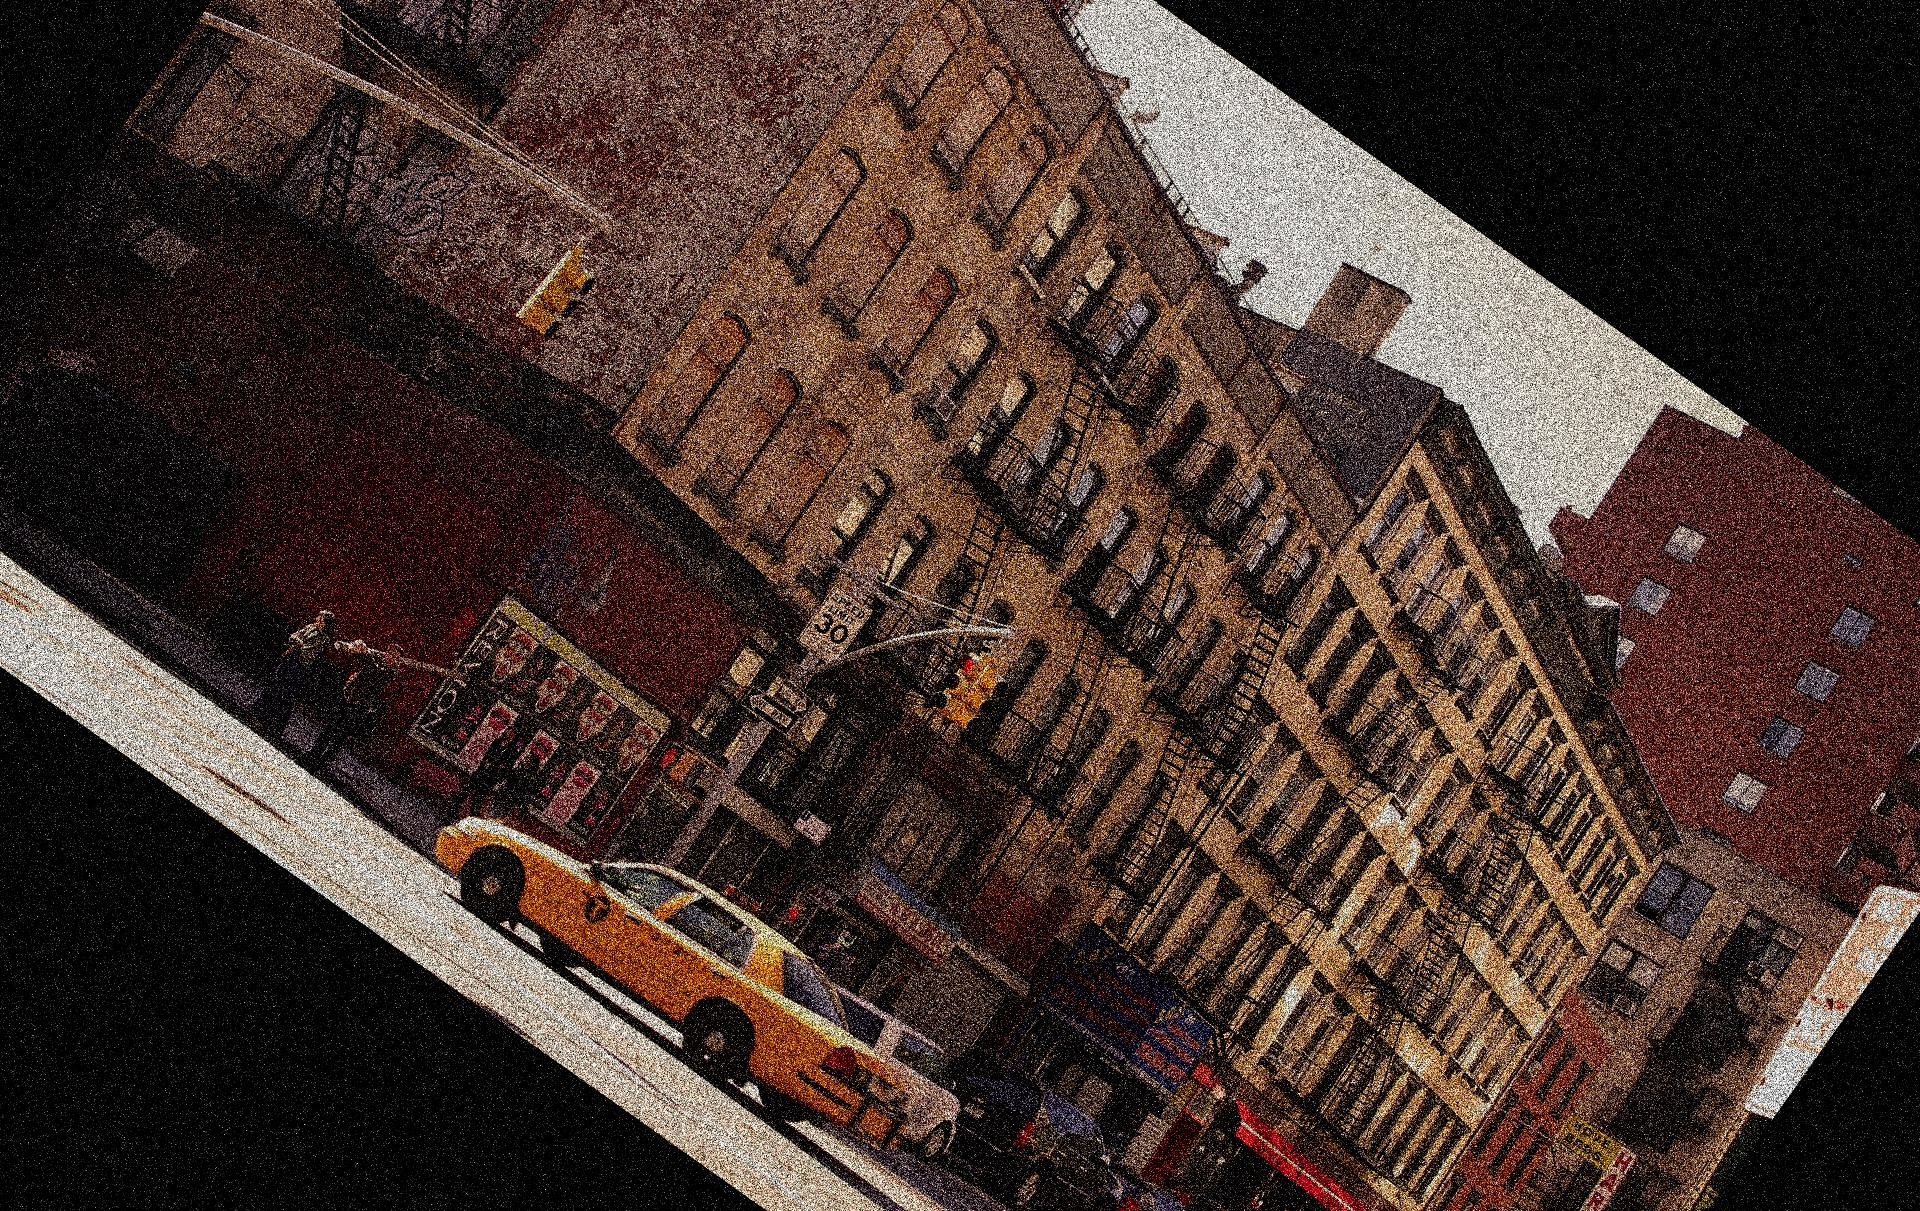taxi: (444, 804, 900, 1148)
